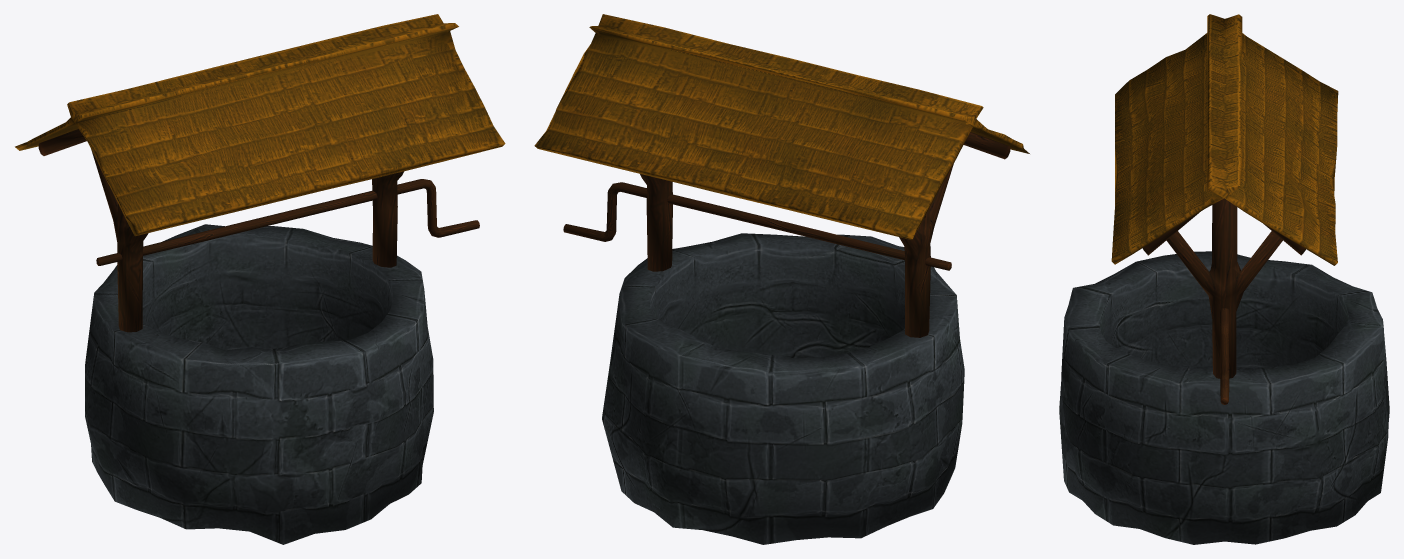
File: Well-Handle_Finish.obj
3 renders of one model, left to right at view 1: azimuth 30°, elevation 25°; view 2: azimuth 150°, elevation 25°; view 3: azimuth 270°, elevation 25°, orthographic. The views are drawn at different scales.
Visible parts, largest first — view 1: Well_Finish_Cylinder.007, Handle_Cylinder.017; view 2: Well_Finish_Cylinder.007, Handle_Cylinder.017; view 3: Well_Finish_Cylinder.007, Handle_Cylinder.017.
Part boxes in pixels (x1,y1,x2,y2): Well_Finish_Cylinder.007: (15, 14, 505, 544); Handle_Cylinder.017: (96, 179, 479, 265); Well_Finish_Cylinder.007: (534, 14, 1029, 544); Handle_Cylinder.017: (563, 182, 951, 270); Well_Finish_Cylinder.007: (1059, 14, 1389, 544); Handle_Cylinder.017: (1220, 308, 1229, 404).
Bounding box in the file's own units: 3.13 × 3.03 × 2.34.
Materials: 2 (2 with a texture image).
